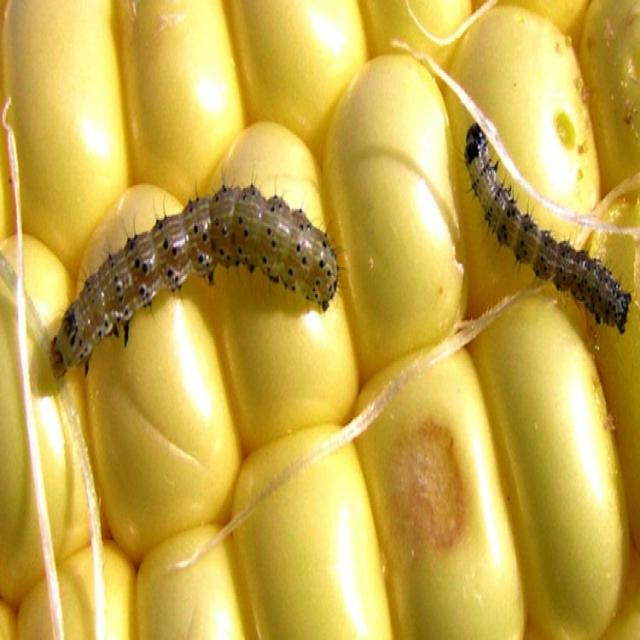cornborer-Larva-: (45, 169, 353, 387), (452, 109, 633, 343)
